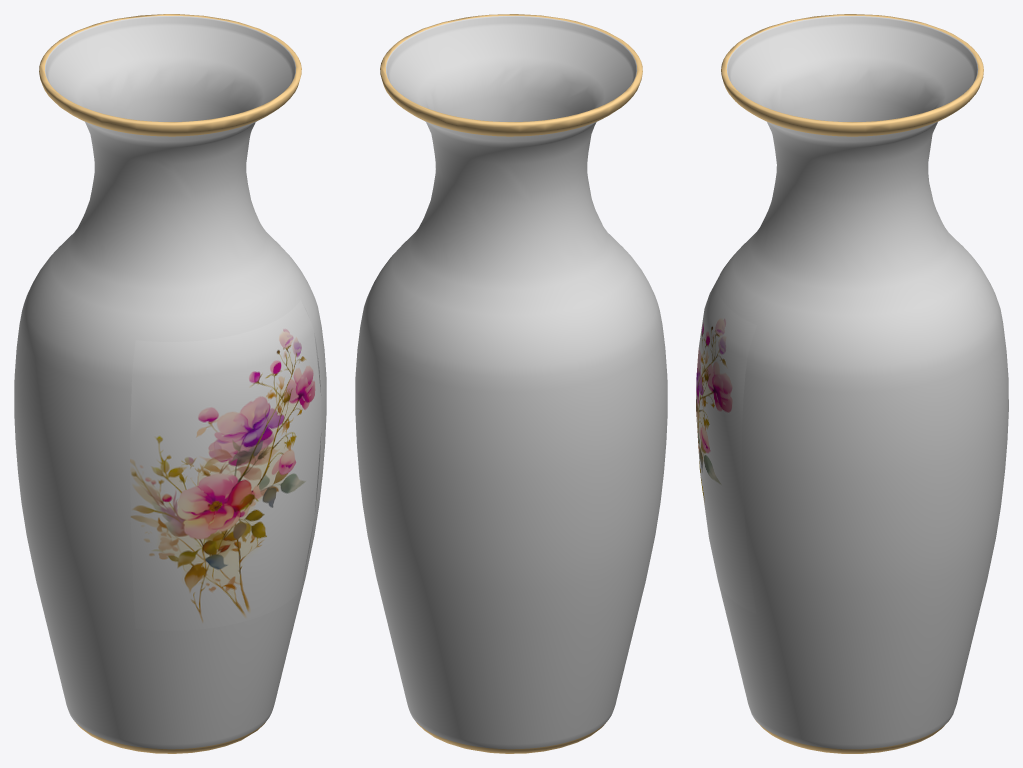
Rendered from mastertux-vase-1546.glb.
3 renders of one model, left to right at view 1: azimuth 30°, elevation 25°; view 2: azimuth 150°, elevation 25°; view 3: azimuth 270°, elevation 25°, orthographic.
Parts seen in each view (by area): view 1: Circle; view 2: Circle; view 3: Circle.
Part boxes in pixels (left/top/right/bottom): Circle: left=14, top=14, right=326, bottom=753; Circle: left=355, top=14, right=667, bottom=753; Circle: left=696, top=14, right=1008, bottom=753.
Size of the model in its own units: 1.31 by 3 by 1.31.
Materials: 3 (1 with a texture image).
